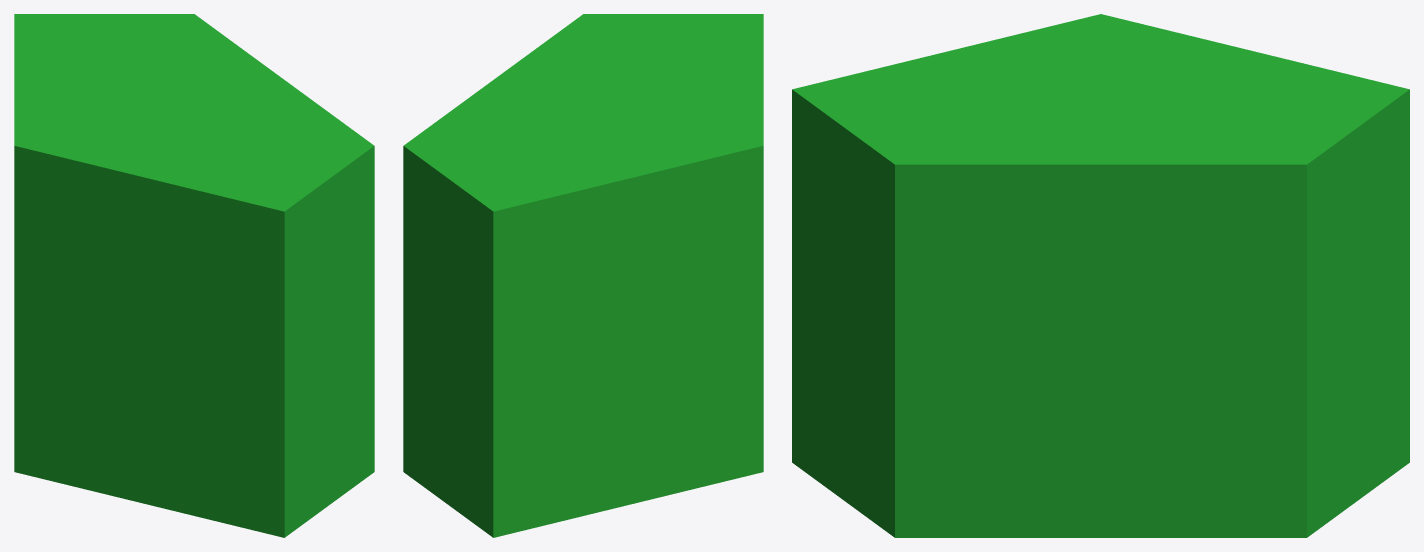
The model's file is module-corner_land_003.glb.
3 views of the same model, side by side, from view 1: azimuth 30°, elevation 25°; view 2: azimuth 150°, elevation 25°; view 3: azimuth 270°, elevation 25° (orthographic). The views are drawn at different scales.
Parts seen in each view (by area): view 1: module-corner_land_003; view 2: module-corner_land_003; view 3: module-corner_land_003.
Part boxes in pixels (box(x1,y1,x2,y2)): module-corner_land_003: box(14, 14, 374, 537); module-corner_land_003: box(403, 14, 763, 537); module-corner_land_003: box(792, 14, 1409, 537).
Size of the model in its own units: 0.433 by 0.5 by 0.75.
